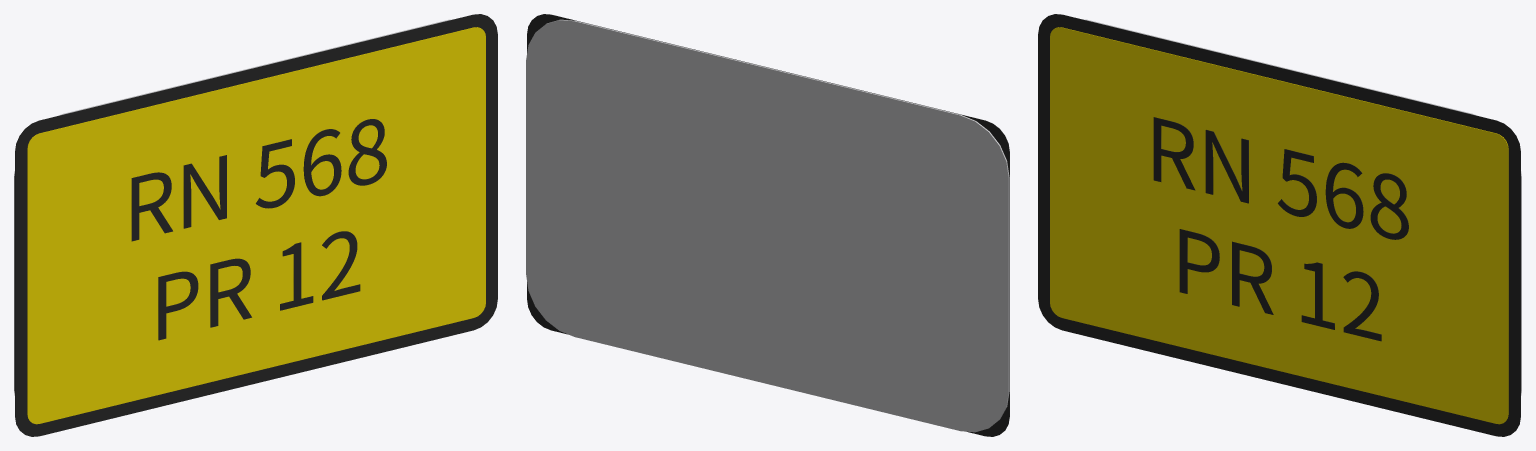
3 renders of one model, left to right at view 1: azimuth 30°, elevation 25°; view 2: azimuth 150°, elevation 25°; view 3: azimuth 330°, elevation 25°, orthographic.
Parts seen in each view (by area): view 1: E53_fond01, E53_cadre00, E53_txt02, E53_txt03, E53_dos; view 2: E53_dos, E53_cadre00; view 3: E53_fond01, E53_cadre00, E53_txt02, E53_txt03, E53_dos.
Boxes of the visible parts, x1,y1,x2,y2 form: E53_fond01: [27, 27, 485, 424]; E53_cadre00: [15, 14, 497, 436]; E53_txt02: [131, 119, 386, 241]; E53_txt03: [158, 231, 360, 340]; E53_dos: [14, 19, 452, 395]; E53_dos: [526, 19, 1009, 432]; E53_cadre00: [527, 14, 1009, 436]; E53_fond01: [1050, 27, 1508, 424]; E53_cadre00: [1038, 14, 1520, 436]; E53_txt02: [1153, 117, 1408, 239]; E53_txt03: [1179, 229, 1381, 341]; E53_dos: [1083, 19, 1521, 395].
Size of the model in its own units: 0.4 by 0.25 by 0.0029.
